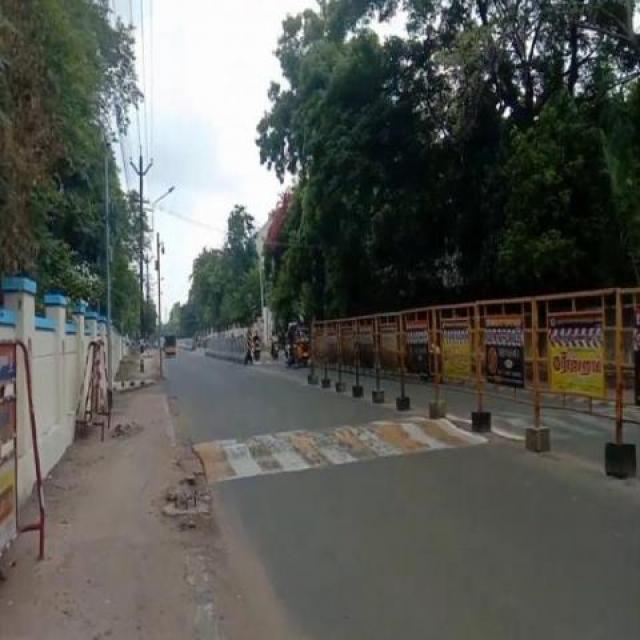Speed Bump: (192, 416, 491, 487), (549, 409, 615, 442), (491, 411, 526, 442)
